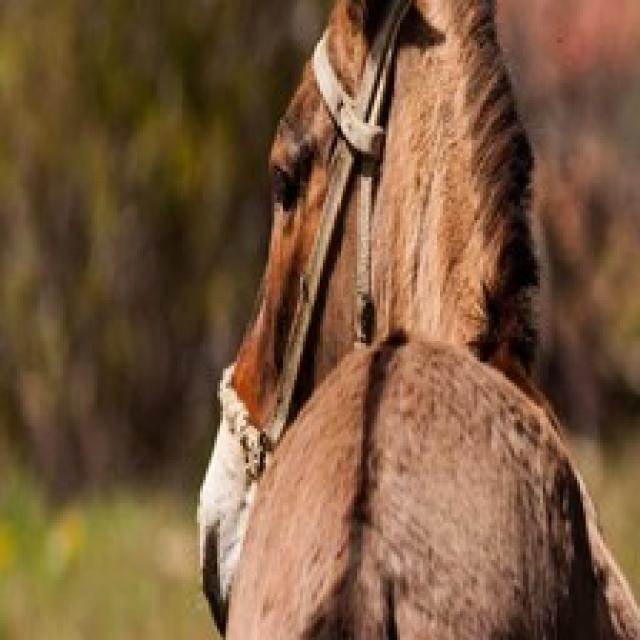Donkey: (194, 0, 637, 637)
